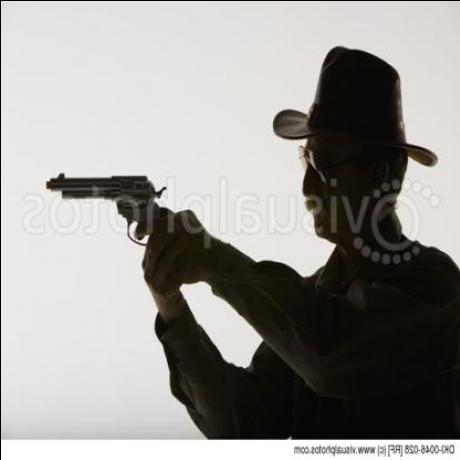1: (158, 30, 460, 452)
weapon: (42, 162, 188, 286)
